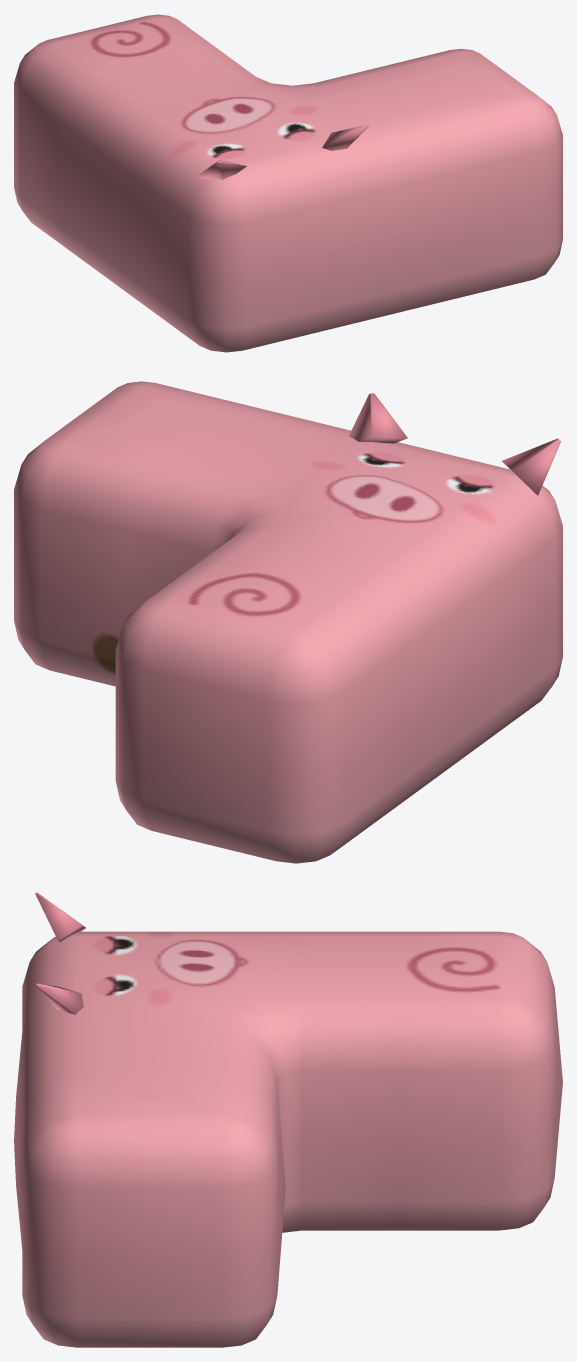
Rendered from Pig_CornerMirror.fbx.
3 renders of one model, top to bottom at view 1: azimuth 30°, elevation 25°; view 2: azimuth 150°, elevation 25°; view 3: azimuth 270°, elevation 25°, orthographic. The views are drawn at different scales.
Visible parts, largest first — view 1: Pig_CornerMirror; view 2: Pig_CornerMirror; view 3: Pig_CornerMirror.
Part boxes in pixels (x1,y1,x2,y2): Pig_CornerMirror: [14, 14, 562, 352]; Pig_CornerMirror: [14, 381, 562, 863]; Pig_CornerMirror: [14, 892, 562, 1347].
Bounding box in the file's own units: 1.98 × 0.9771 × 1.98.
1 material, 1 textured.
